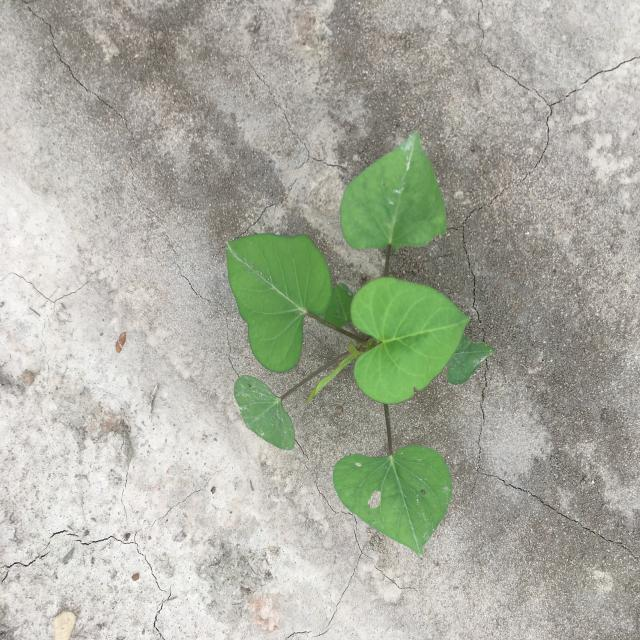MorningGlory: (226, 132, 497, 558)
